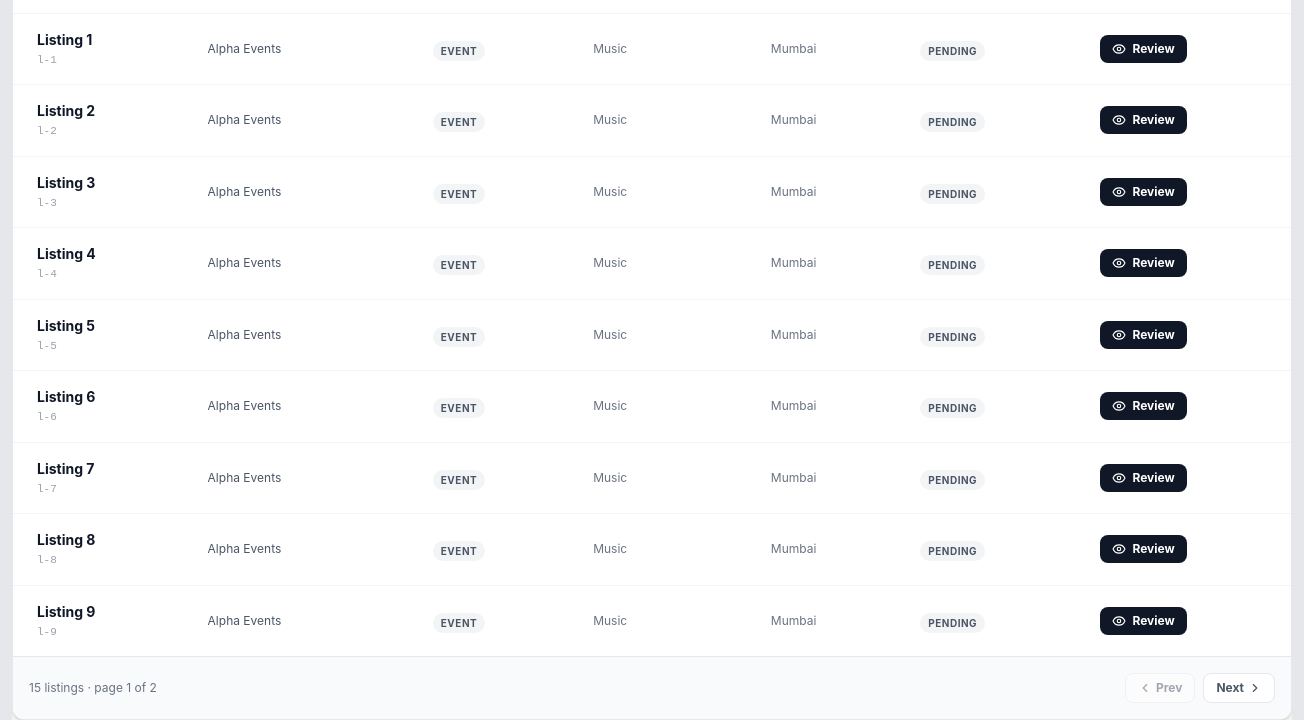
Test: Listings Approval › resets to page 1 when the search filter changes
(page scrolled)
Click the button "Next" at (1239, 688), box [1203,673,1275,703]
(page scrolled)
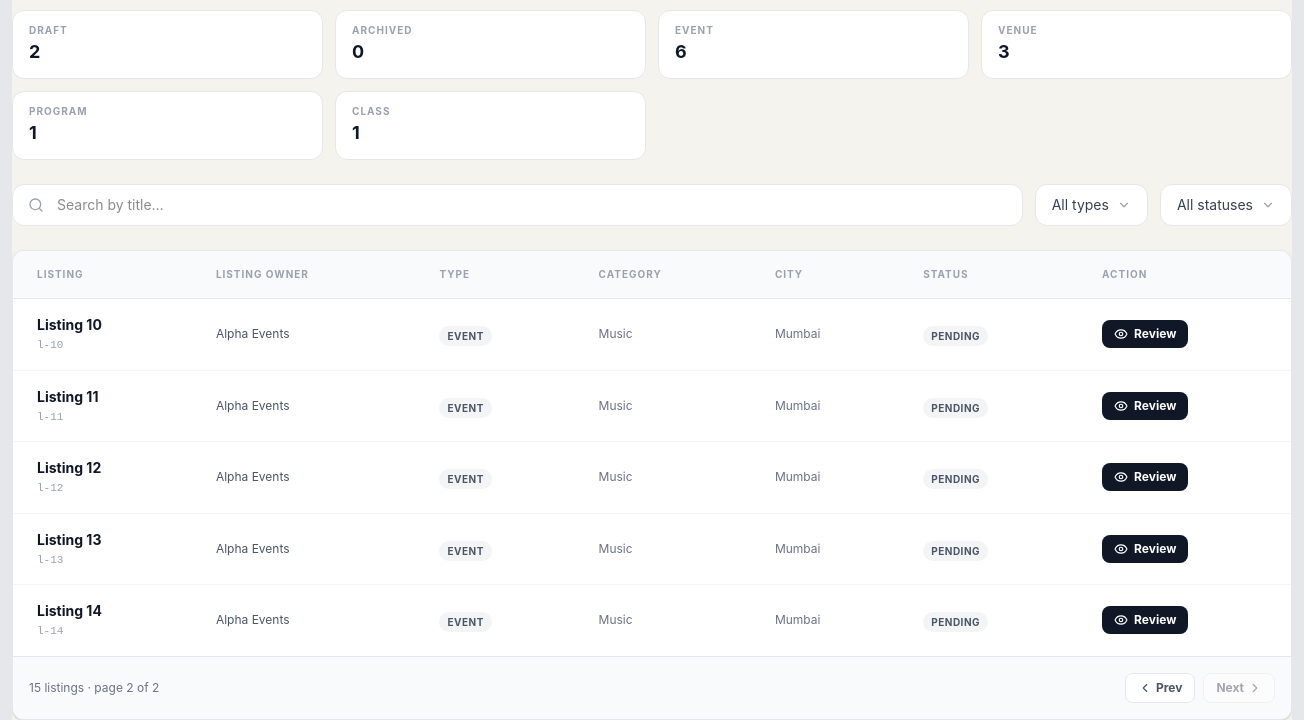
Check: the text "15 listings · page 2 of 2" is shown, box [29,680,159,696]
Type "x" into the field with placeholder "Search by title…" at (517, 205), box [12,184,1023,226]
(page scrolled)
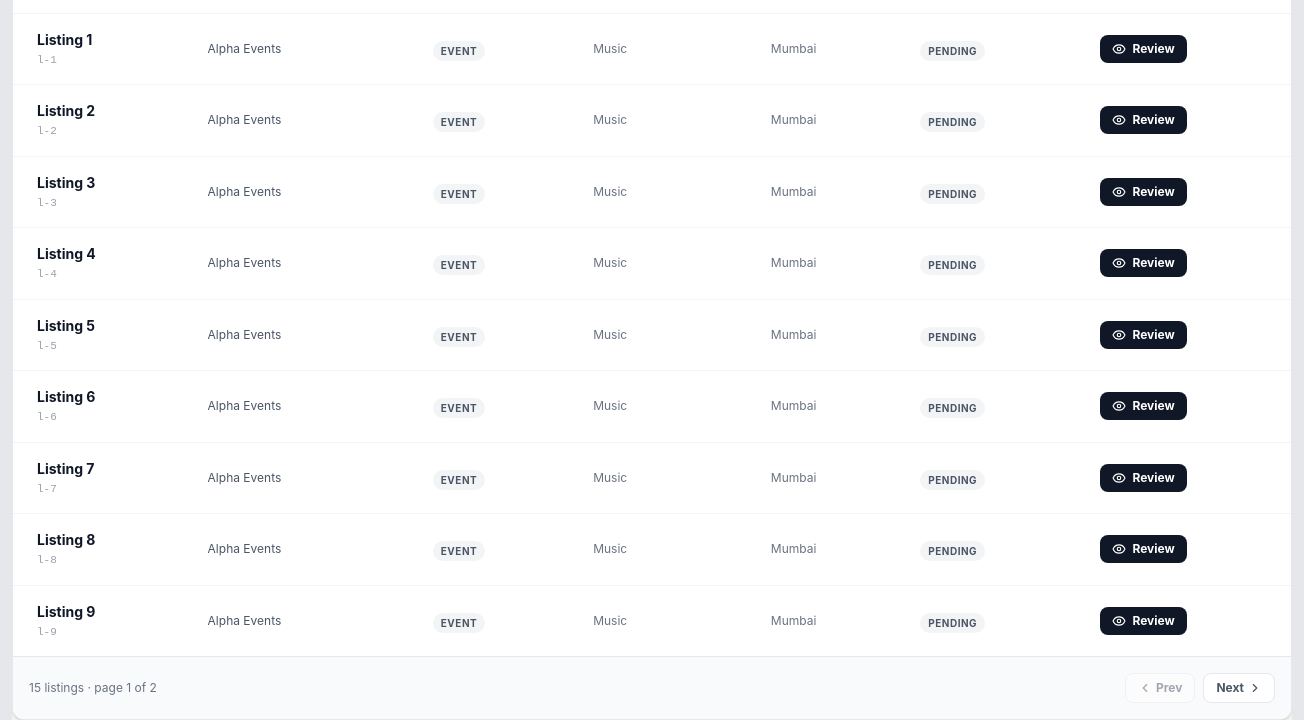
Check: the text "15 listings · page 1 of 2" is shown, box [29,680,157,696]
